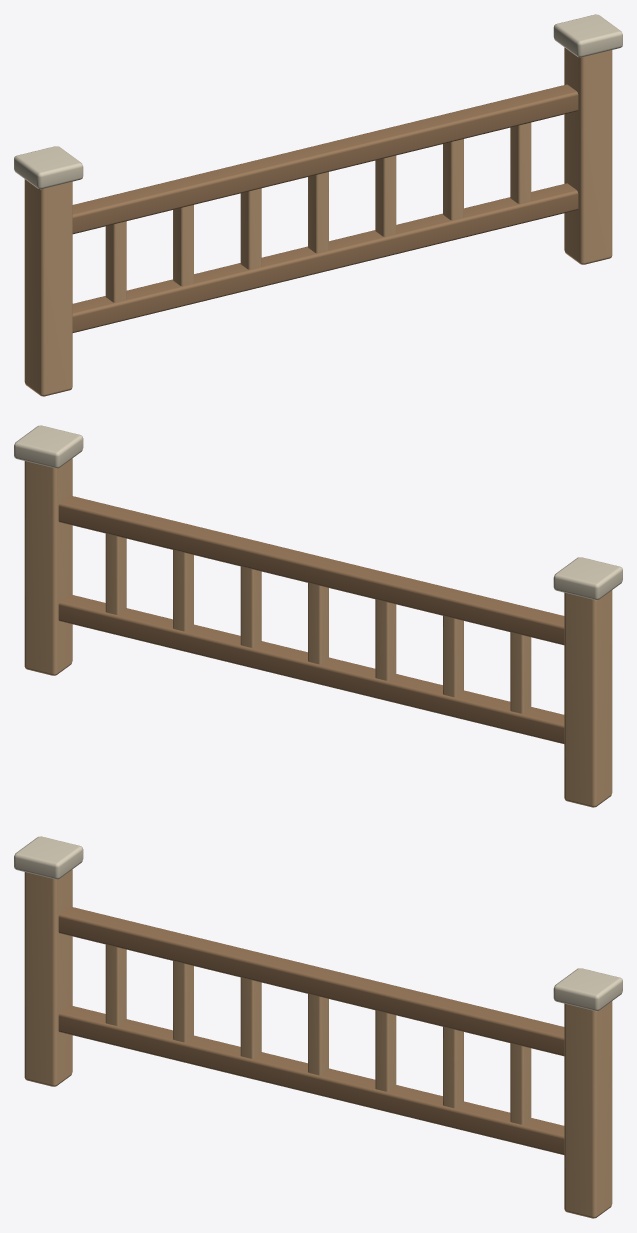
File: SM_Fence_Straight_4m.fbx
3 views of the same model, one above another, from view 1: azimuth 30°, elevation 25°; view 2: azimuth 150°, elevation 25°; view 3: azimuth 330°, elevation 25° (orthographic).
Parts seen in each view (by area): view 1: SM_Fence_Straight_4m; view 2: SM_Fence_Straight_4m; view 3: SM_Fence_Straight_4m.
Boxes of the visible parts, box(x1,y1,x2,y2) form: SM_Fence_Straight_4m: box(14, 14, 622, 396); SM_Fence_Straight_4m: box(14, 425, 622, 807); SM_Fence_Straight_4m: box(14, 836, 622, 1218).
Bounding box in the file's own units: 4.34 × 1.62 × 0.34.
